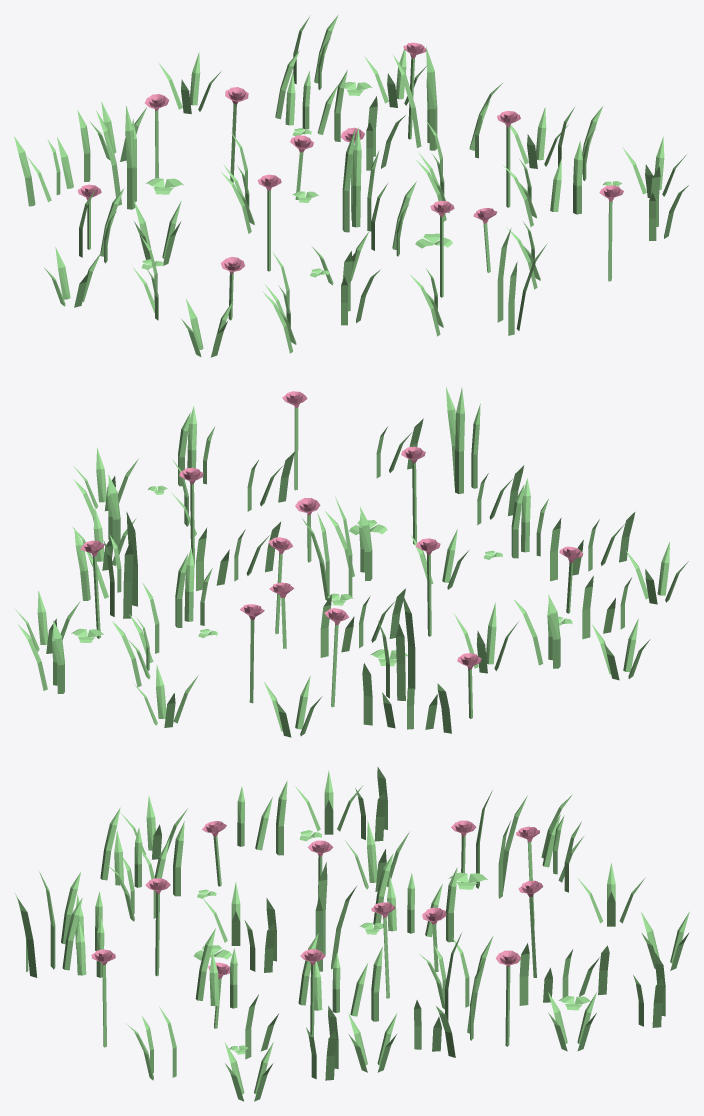
The model's file is Roses.fbx.
The picture shows the model from 3 angles, top to bottom: view 1: azimuth 30°, elevation 25°; view 2: azimuth 150°, elevation 25°; view 3: azimuth 270°, elevation 25°; orthographic projection. The views are drawn at different scales.
Visible parts, largest first — view 1: Roses; view 2: Roses; view 3: Roses.
Part boxes in pixels (left/top/right/bottom): Roses: left=14, top=15, right=688, bottom=357; Roses: left=14, top=387, right=688, bottom=737; Roses: left=15, top=767, right=689, bottom=1101.
Size of the model in its own units: 5.89 by 1.17 by 5.66.
